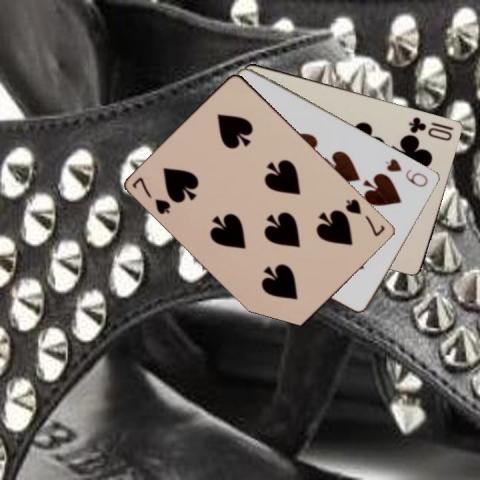10c: (406, 113, 455, 142)
7s: (343, 195, 386, 238), (129, 174, 173, 216)
9s: (383, 155, 430, 189)
